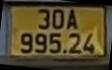.: (63, 50, 66, 53)
0: (53, 9, 64, 28)
2: (69, 33, 81, 53)
3: (39, 9, 50, 29)
4: (83, 33, 95, 54)
5: (49, 33, 61, 54)
9: (21, 32, 32, 53), (36, 33, 47, 53)
A: (67, 9, 78, 29)
